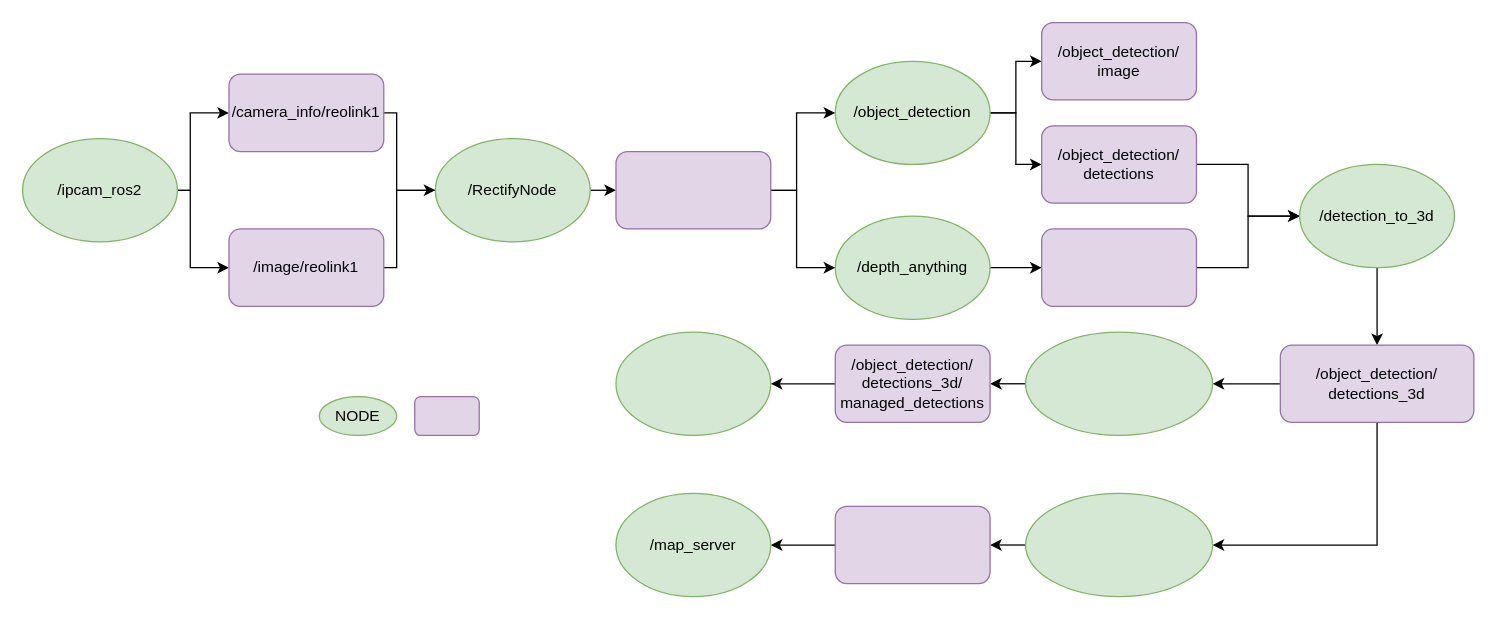
The diagram is 1496 pixels wide and 619 high, and some of its shapes have lost their labels. The centre of each missing label's shape, as x and y in pixels:
/depth: the point at 1118,267
/detections_to_ko: the point at 1118,544
/image_rect/reolink1: the point at 693,189
/map_ko: the point at 912,544
/person-agent: the point at 693,383
/person_posture_manager: the point at 1118,383
TOPIC: the point at 446,415
